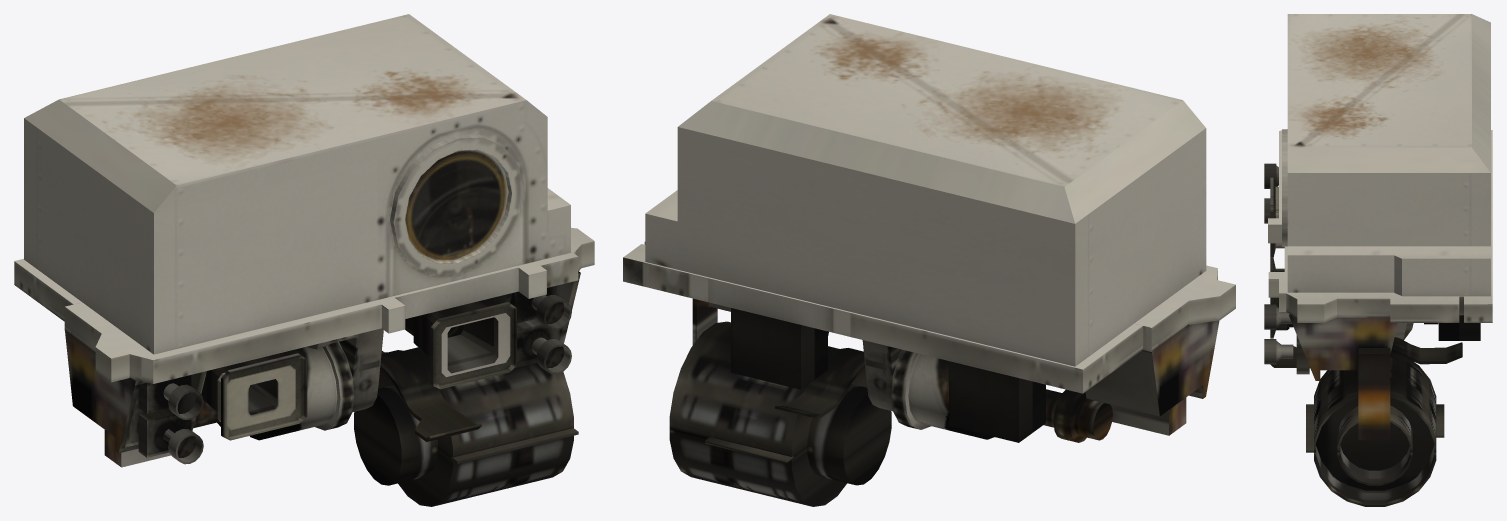
Rendered from mast_cameras.dae.
The picture shows the model from 3 angles, left to right: view 1: azimuth 30°, elevation 25°; view 2: azimuth 150°, elevation 25°; view 3: azimuth 270°, elevation 25°; orthographic projection. The views are drawn at different scales.
Parts seen in each view (by area): view 1: ChemCam, mast_03, NavCam, MastCam; view 2: ChemCam, mast_03, MastCam, NavCam; view 3: ChemCam, mast_03, NavCam, MastCam.
Boxes of the visible parts, x1,y1,x2,y2 form: ChemCam: [14, 14, 594, 383]; mast_03: [193, 328, 578, 506]; NavCam: [65, 271, 580, 467]; MastCam: [201, 301, 516, 440]; ChemCam: [623, 14, 1235, 393]; mast_03: [669, 298, 1112, 506]; MastCam: [731, 308, 1045, 442]; NavCam: [710, 303, 1219, 435]; ChemCam: [1268, 14, 1492, 322]; mast_03: [1270, 323, 1462, 506]; NavCam: [1264, 163, 1397, 380]; MastCam: [1270, 177, 1480, 340].
Bounding box in the file's own units: 0.55 × 0.2875 × 0.4652.
1 material, 1 textured.
